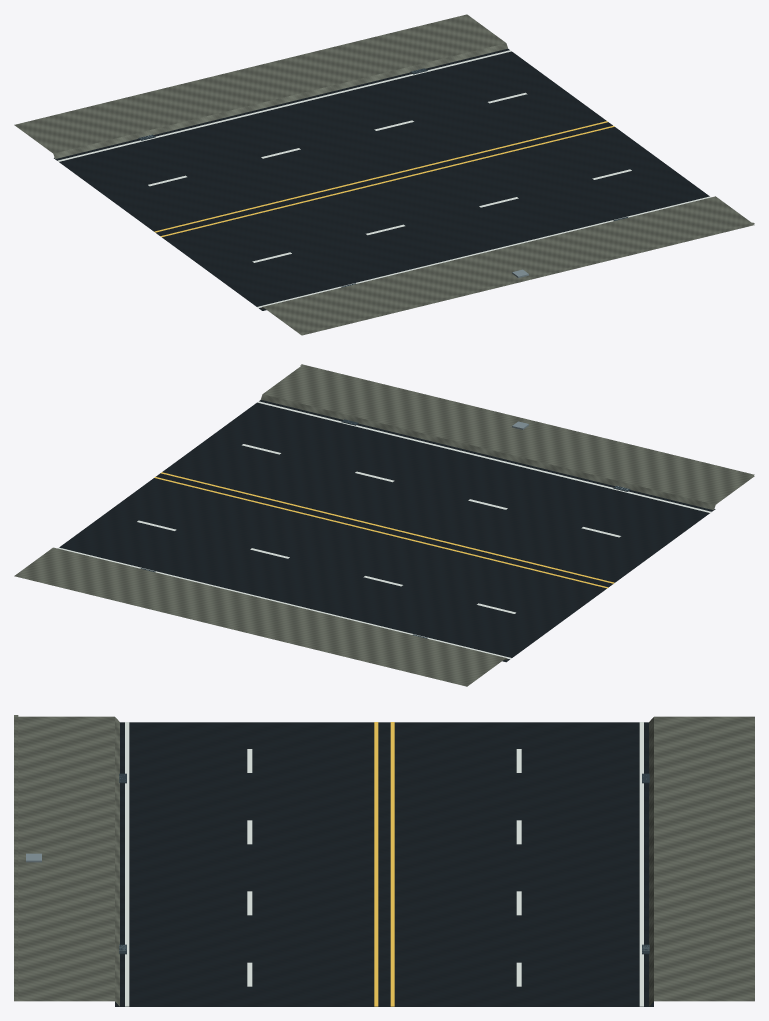
The model's file is road_ring_4lane_16m_LOD0.glb.
The picture shows the model from 3 angles, top to bottom: view 1: azimuth 30°, elevation 25°; view 2: azimuth 150°, elevation 25°; view 3: azimuth 270°, elevation 25°; orthographic projection. The views are drawn at different scales.
Parts seen in each view (by area): view 1: road_ring_4lane_16m__surface, road_ring_4lane_16m__markings, road_ring_4lane_16m__outer_curb_and_mounts; view 2: road_ring_4lane_16m__surface, road_ring_4lane_16m__markings, road_ring_4lane_16m__outer_curb_and_mounts; view 3: road_ring_4lane_16m__surface, road_ring_4lane_16m__markings, road_ring_4lane_16m__outer_curb_and_mounts.
Part boxes in pixels (left/top/right/bottom): road_ring_4lane_16m__surface: left=14, top=14, right=754, bottom=335; road_ring_4lane_16m__markings: left=57, top=50, right=710, bottom=307; road_ring_4lane_16m__outer_curb_and_mounts: left=300, top=222, right=754, bottom=334; road_ring_4lane_16m__surface: left=14, top=366, right=754, bottom=686; road_ring_4lane_16m__markings: left=58, top=401, right=711, bottom=659; road_ring_4lane_16m__outer_curb_and_mounts: left=300, top=364, right=754, bottom=475; road_ring_4lane_16m__surface: left=14, top=716, right=754, bottom=1006; road_ring_4lane_16m__markings: left=125, top=722, right=643, bottom=1006; road_ring_4lane_16m__outer_curb_and_mounts: left=14, top=715, right=41, bottom=999.
Size of the model in its own units: 16 by 0.1955 by 17.6.
Materials: 7 (3 with a texture image).
